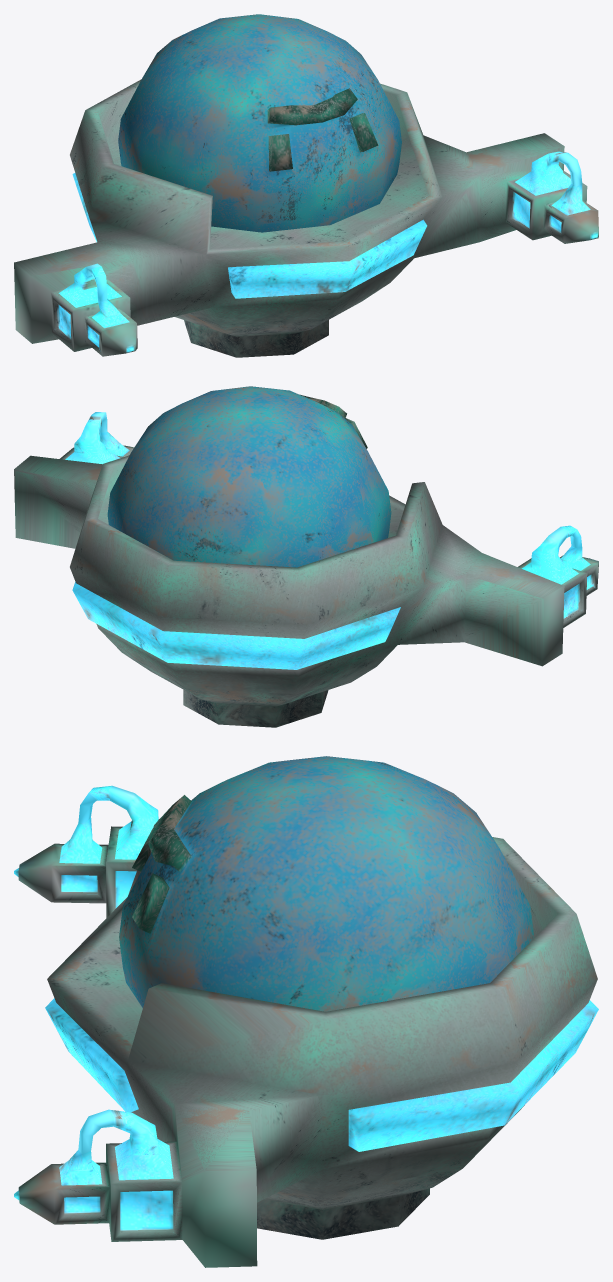
The model's file is IPROJ3 Elite Slime Enemy.fbx.
3 views of the same model, one above another, from view 1: azimuth 30°, elevation 25°; view 2: azimuth 150°, elevation 25°; view 3: azimuth 270°, elevation 25° (orthographic). The views are drawn at different scales.
Parts seen in each view (by area): view 1: Sphere; view 2: Sphere; view 3: Sphere.
Part boxes in pixels (x1,y1,x2,y2): Sphere: (14,14,598,357); Sphere: (14,386,598,727); Sphere: (14,756,598,1267).
Bounding box in the file's own units: 198 × 108 × 132.
